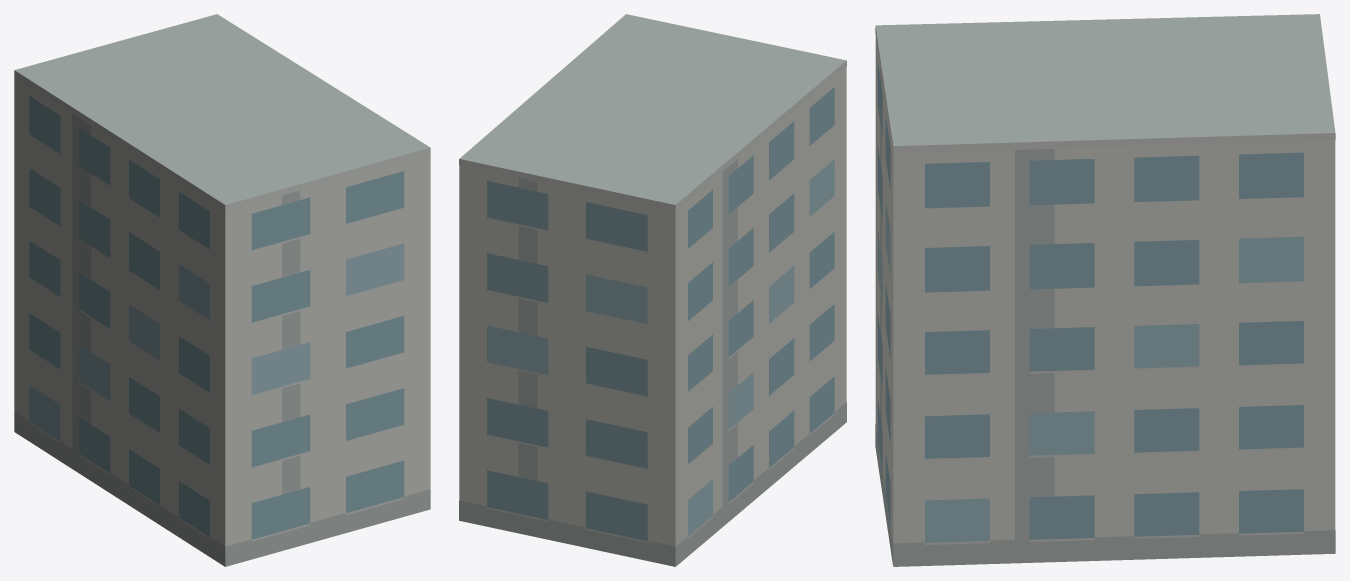
The model's file is survey-upis-32883379.glb.
3 renders of one model, left to right at view 1: azimuth 30°, elevation 25°; view 2: azimuth 150°, elevation 25°; view 3: azimuth 270°, elevation 25°, orthographic. The views are drawn at different scales.
Parts seen in each view (by area): view 1: survey-upis-32883379.tmp; view 2: survey-upis-32883379.tmp; view 3: survey-upis-32883379.tmp.
Part boxes in pixels (x1,y1,x2,y2): survey-upis-32883379.tmp: (14, 14, 430, 566); survey-upis-32883379.tmp: (459, 14, 846, 566); survey-upis-32883379.tmp: (875, 14, 1335, 566).
Size of the model in its own units: 9.27 by 13.75 by 13.64.
